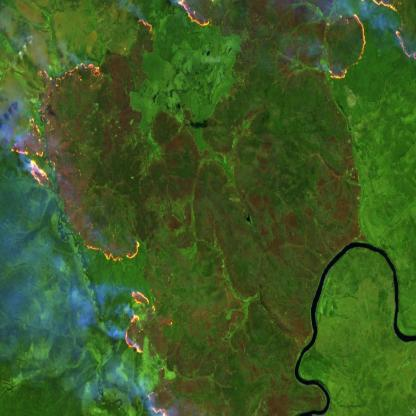fire: (80, 234, 178, 416), (8, 59, 113, 190), (321, 0, 416, 85), (136, 0, 217, 44)
